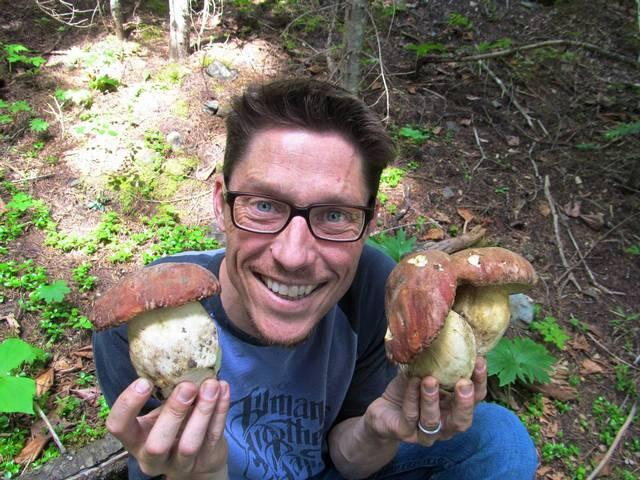edible_mushroom: (382, 245, 536, 392), (87, 261, 223, 402)
